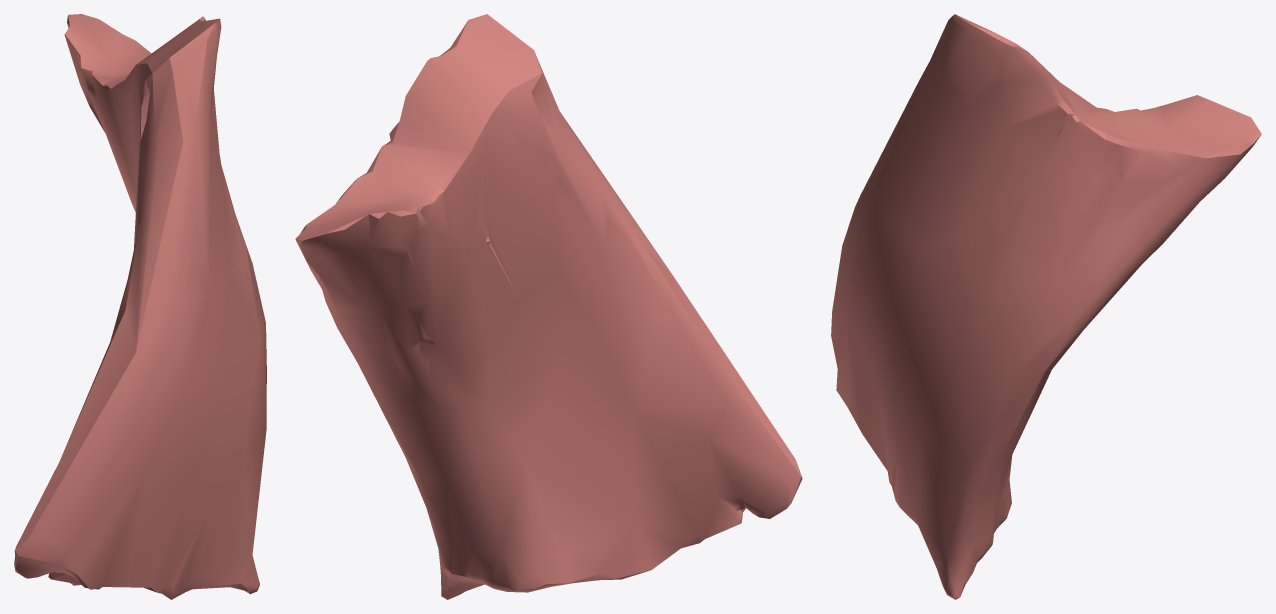
Rendered from fma46318_fj1569.glb.
The picture shows the model from 3 angles, left to right: view 1: azimuth 30°, elevation 25°; view 2: azimuth 150°, elevation 25°; view 3: azimuth 270°, elevation 25°; orthographic projection. The views are drawn at different scales.
Parts seen in each view (by area): view 1: FMA46318_FJ1569; view 2: FMA46318_FJ1569; view 3: FMA46318_FJ1569.
Part boxes in pixels (left/top/right/bottom): FMA46318_FJ1569: left=14, top=14, right=266, bottom=599; FMA46318_FJ1569: left=295, top=14, right=802, bottom=599; FMA46318_FJ1569: left=831, top=14, right=1261, bottom=599.
Bounding box in the file's own units: 0.0141 × 0.0231 × 0.0159.
